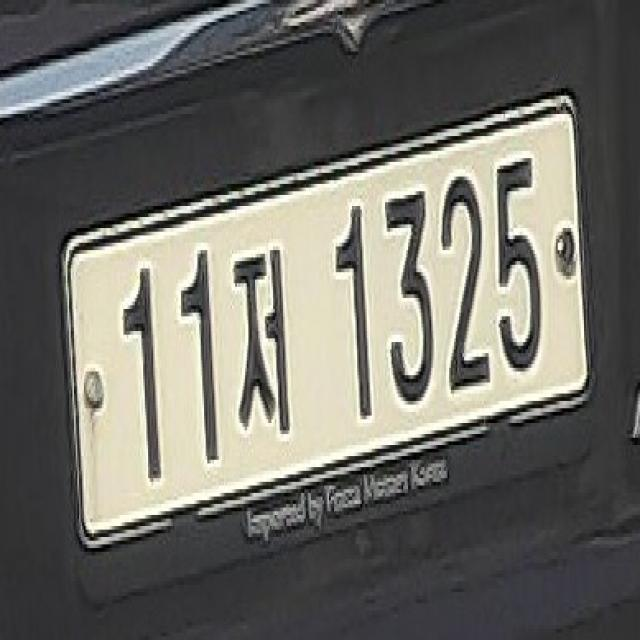1: (332, 194, 374, 430), (121, 260, 160, 498), (180, 236, 216, 485)
2: (438, 178, 493, 390)
3: (383, 182, 433, 409)
5: (495, 135, 546, 383)
jeo: (232, 233, 292, 466)
license_plate: (50, 74, 608, 615)
